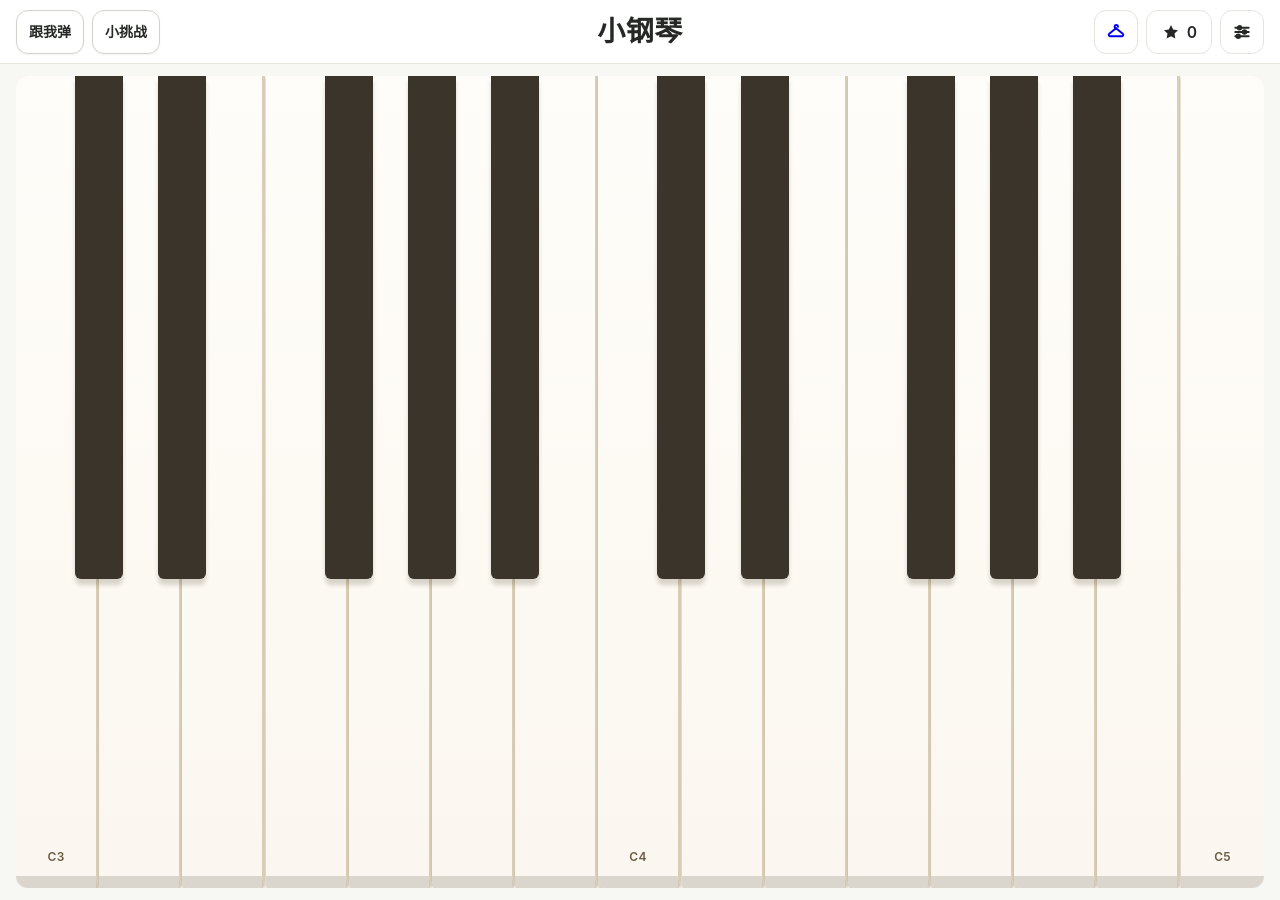
Scenario: 核心路径冒烟测试 › 装扮页是「琴键样品板」：每套皮肤一块真实琴键材质样品（§12.1）
The width and height of the screenshot is (1280, 900).
Click the link named "我的装扮": (1116, 32) [1094,10,1138,54]
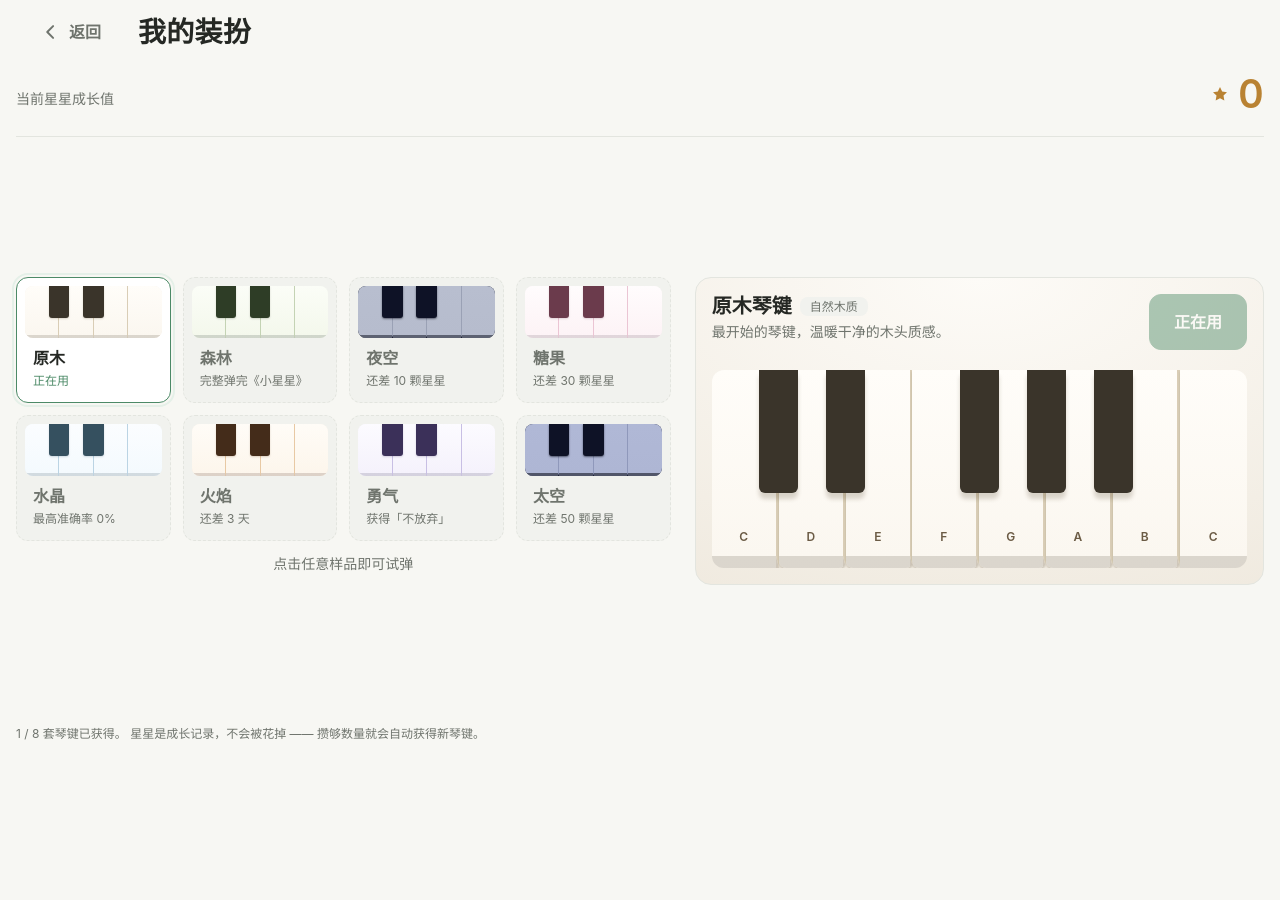
Now the text "点击任意样品即可试弹" is shown, box [273,555,413,572]
Now the number of elements with class "skin-sample" is 8
Now the button with class "is-locked" showing "森林 完整弹完《小星星》" is shown, box [183,277,337,403]
// 点样品切换预览，但不改装备状态
Click the text "森林": (216, 358) [200,348,232,368]
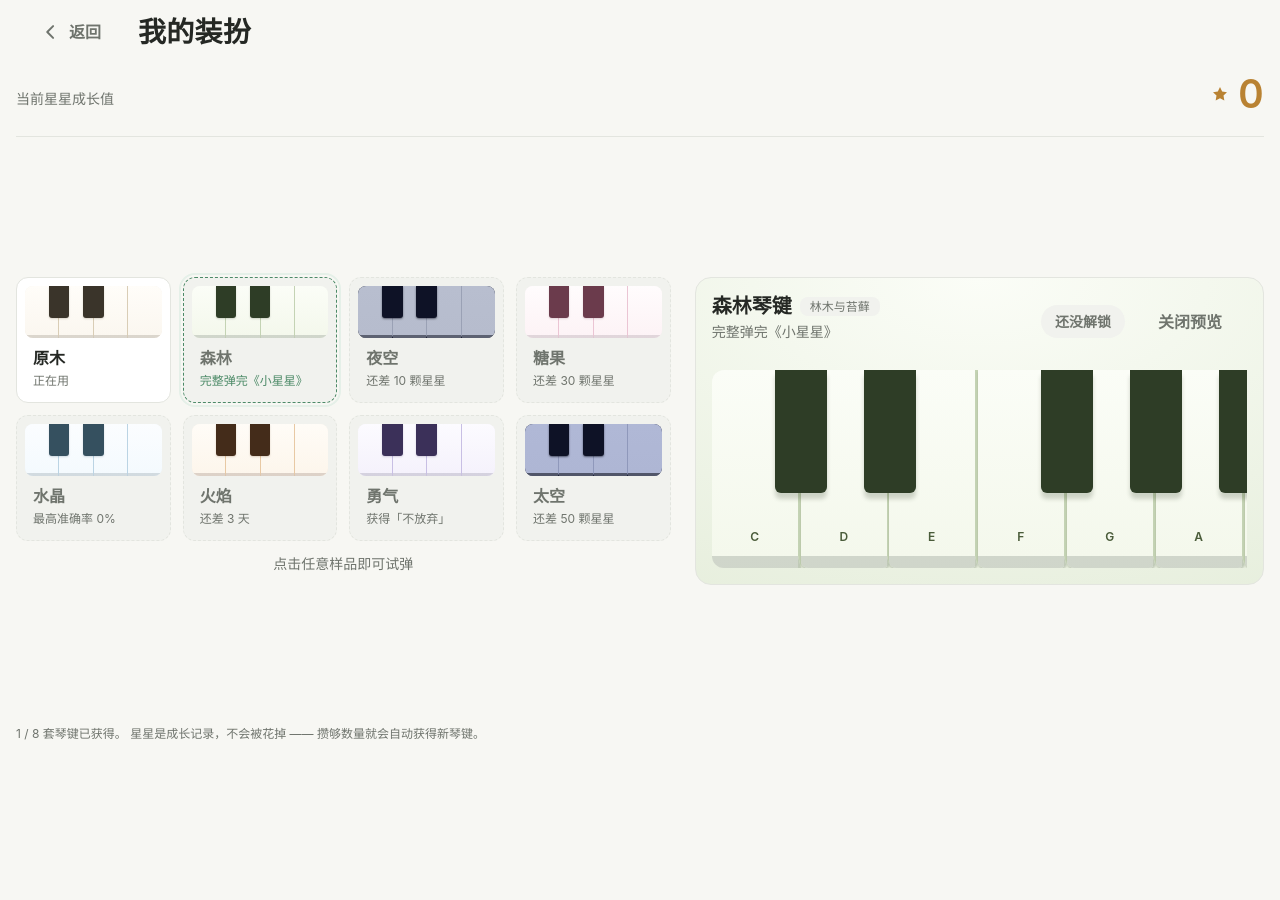
Now the text "林木与苔藓" is shown, box [800,297,880,316]
